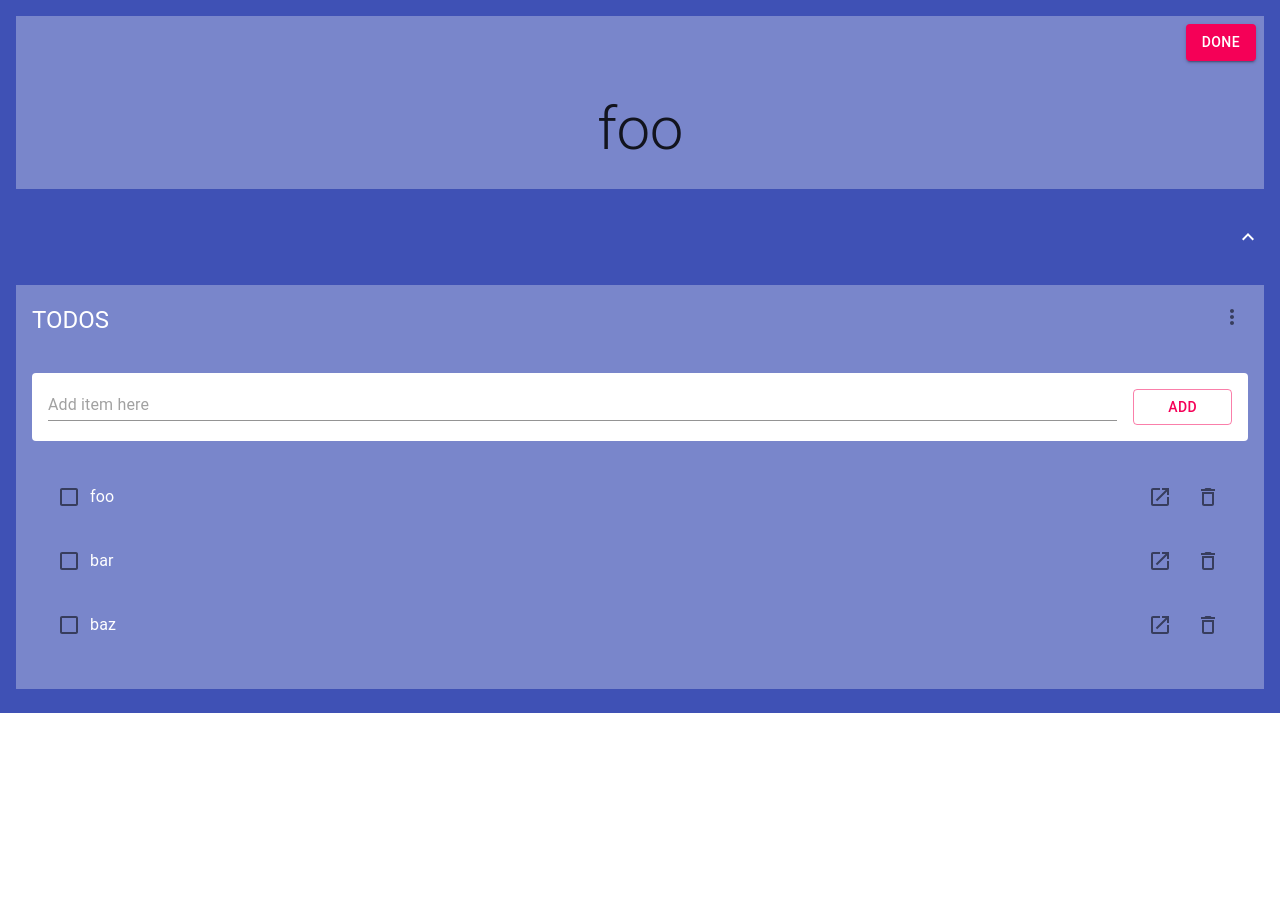
it: TodoList › Edit Item primary
Click the text "bar" at (102, 560), box left=90, top=551, right=114, bottom=570
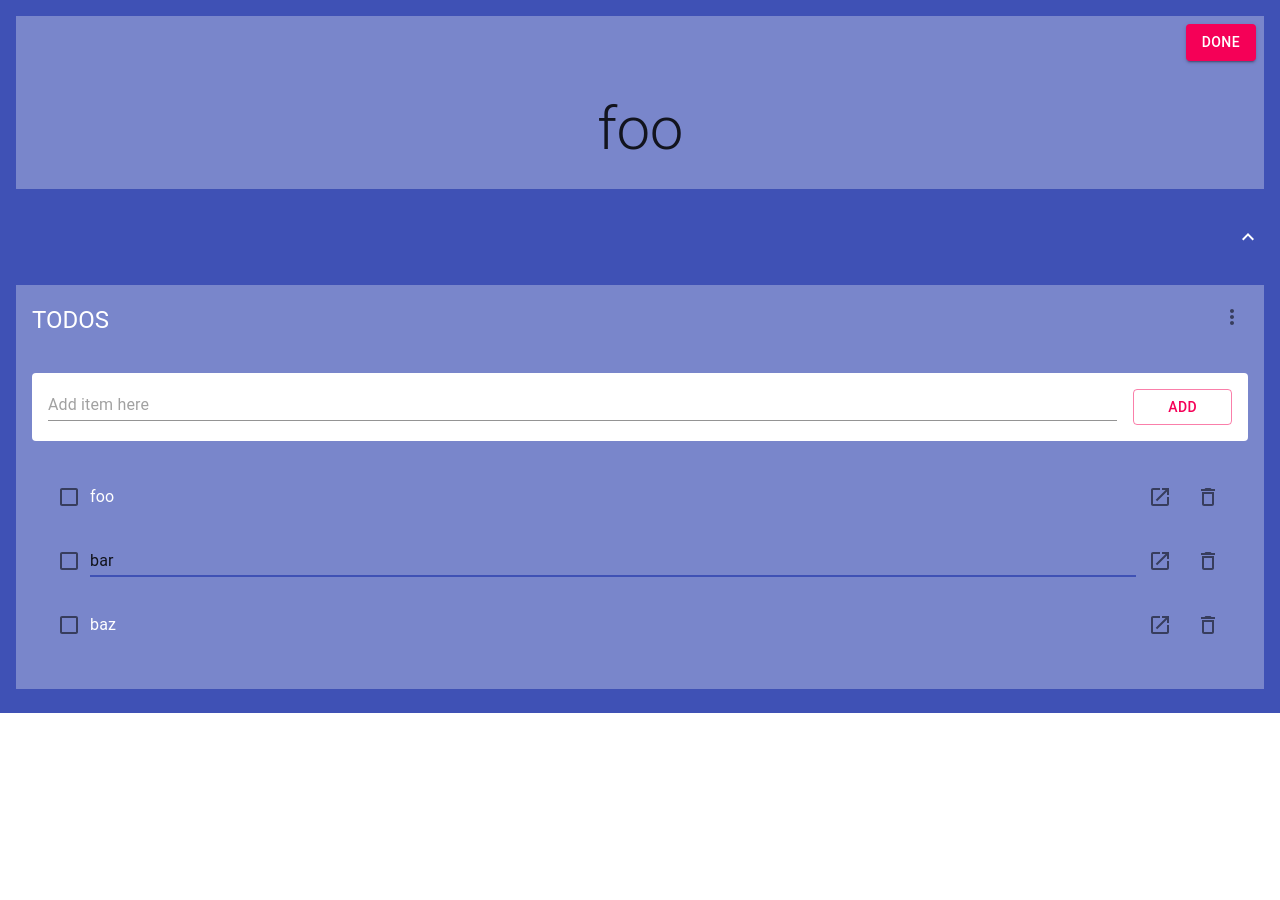
Type "bozo" into the 2nd field at (613, 561), box left=90, top=545, right=1136, bottom=577
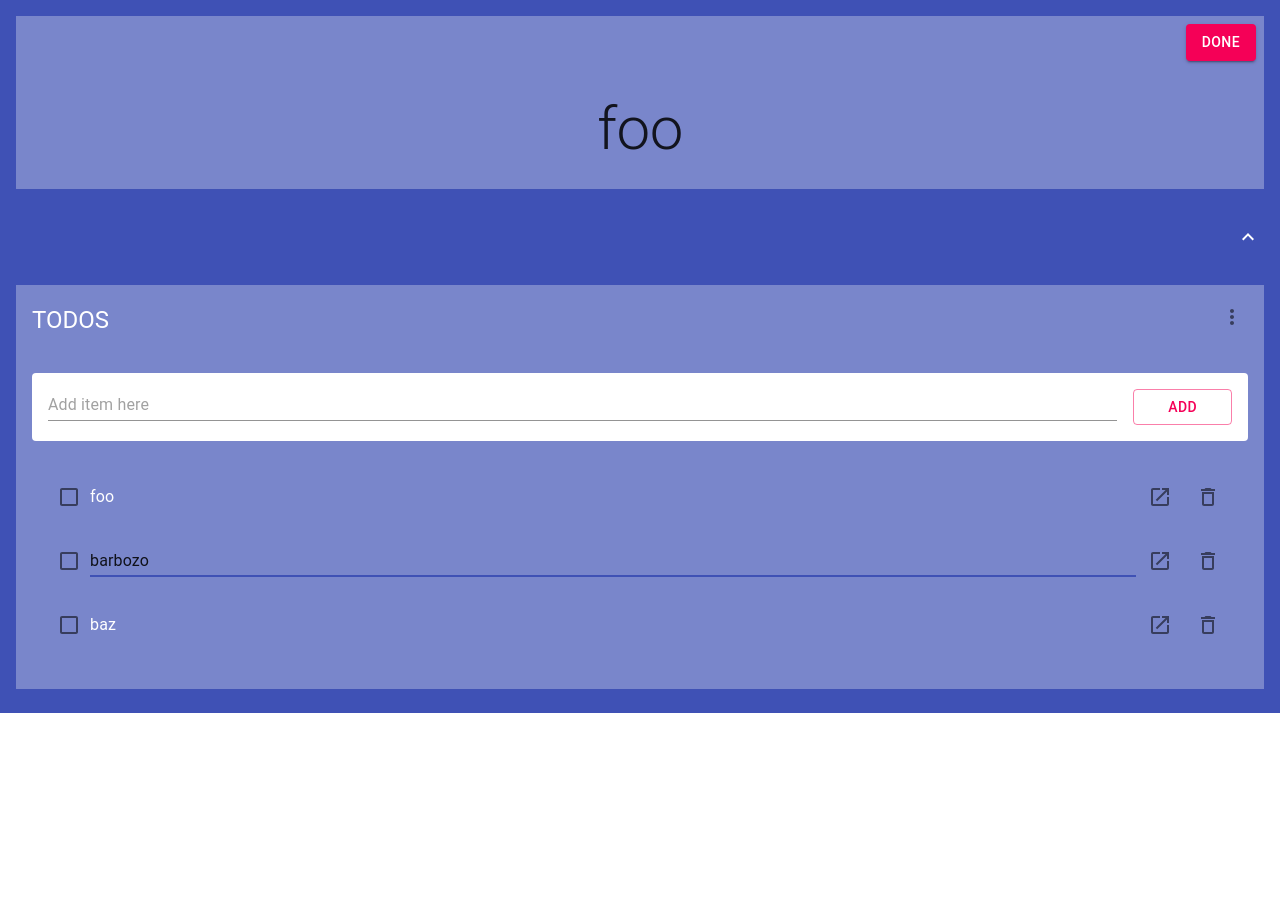
Press Enter in the 2nd field, box left=90, top=545, right=1136, bottom=577
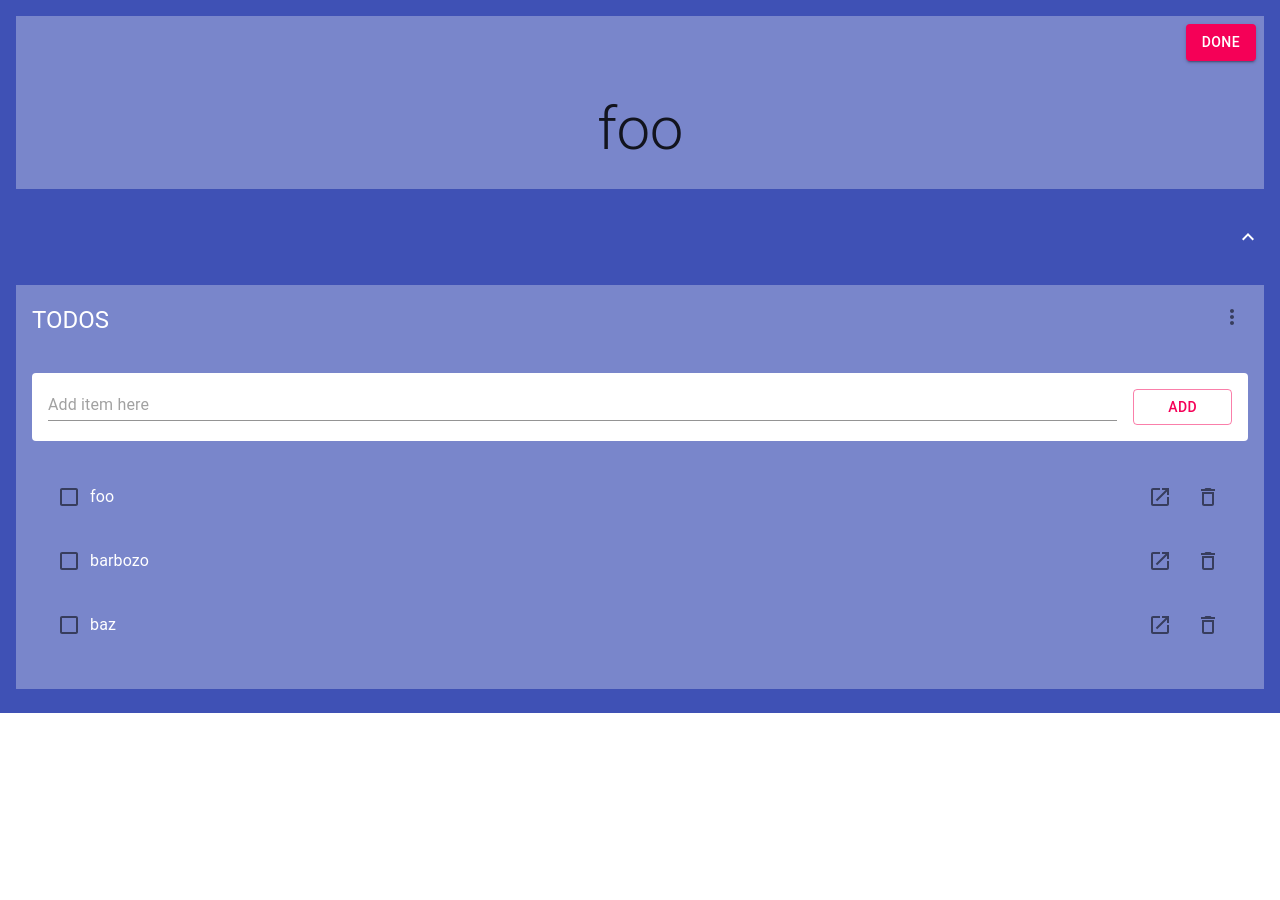
Check: the list items read "foo", "barbozo", "baz", in this order, box left=32, top=465, right=1248, bottom=529; left=32, top=529, right=1248, bottom=593; left=32, top=593, right=1248, bottom=657
